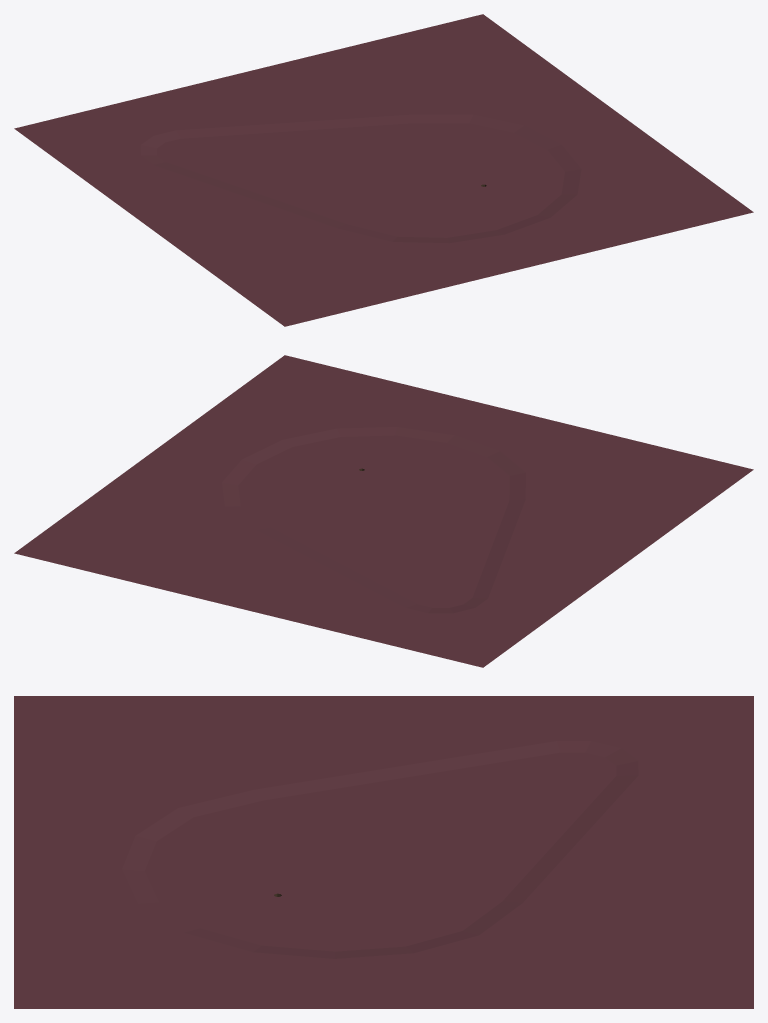
Rendered from tiles-nb-tile-golf-green-nb.glb.
The picture shows the model from 3 angles, top to bottom: view 1: azimuth 30°, elevation 25°; view 2: azimuth 150°, elevation 25°; view 3: azimuth 270°, elevation 25°; orthographic projection. The views are drawn at different scales.
Parts seen in each view (by area): view 1: tile-golf-green-nb; view 2: tile-golf-green-nb; view 3: tile-golf-green-nb.
Boxes of the visible parts, bbox=[...] form: tile-golf-green-nb: bbox=[14, 14, 753, 326]; tile-golf-green-nb: bbox=[14, 355, 753, 667]; tile-golf-green-nb: bbox=[14, 696, 753, 1008].
Bounding box in the file's own units: 30 × 0.5 × 30.
